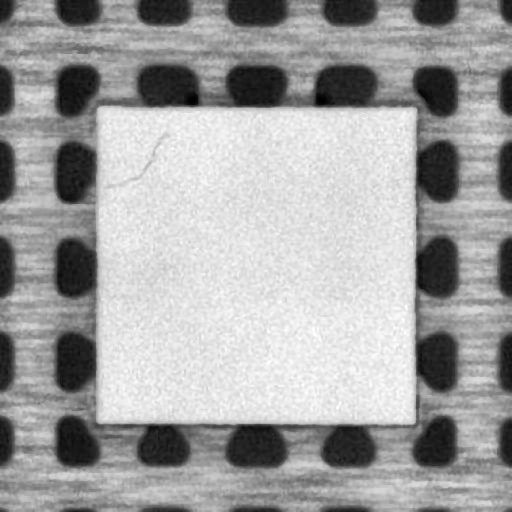DIE_CRACK: (102, 132, 165, 192)
